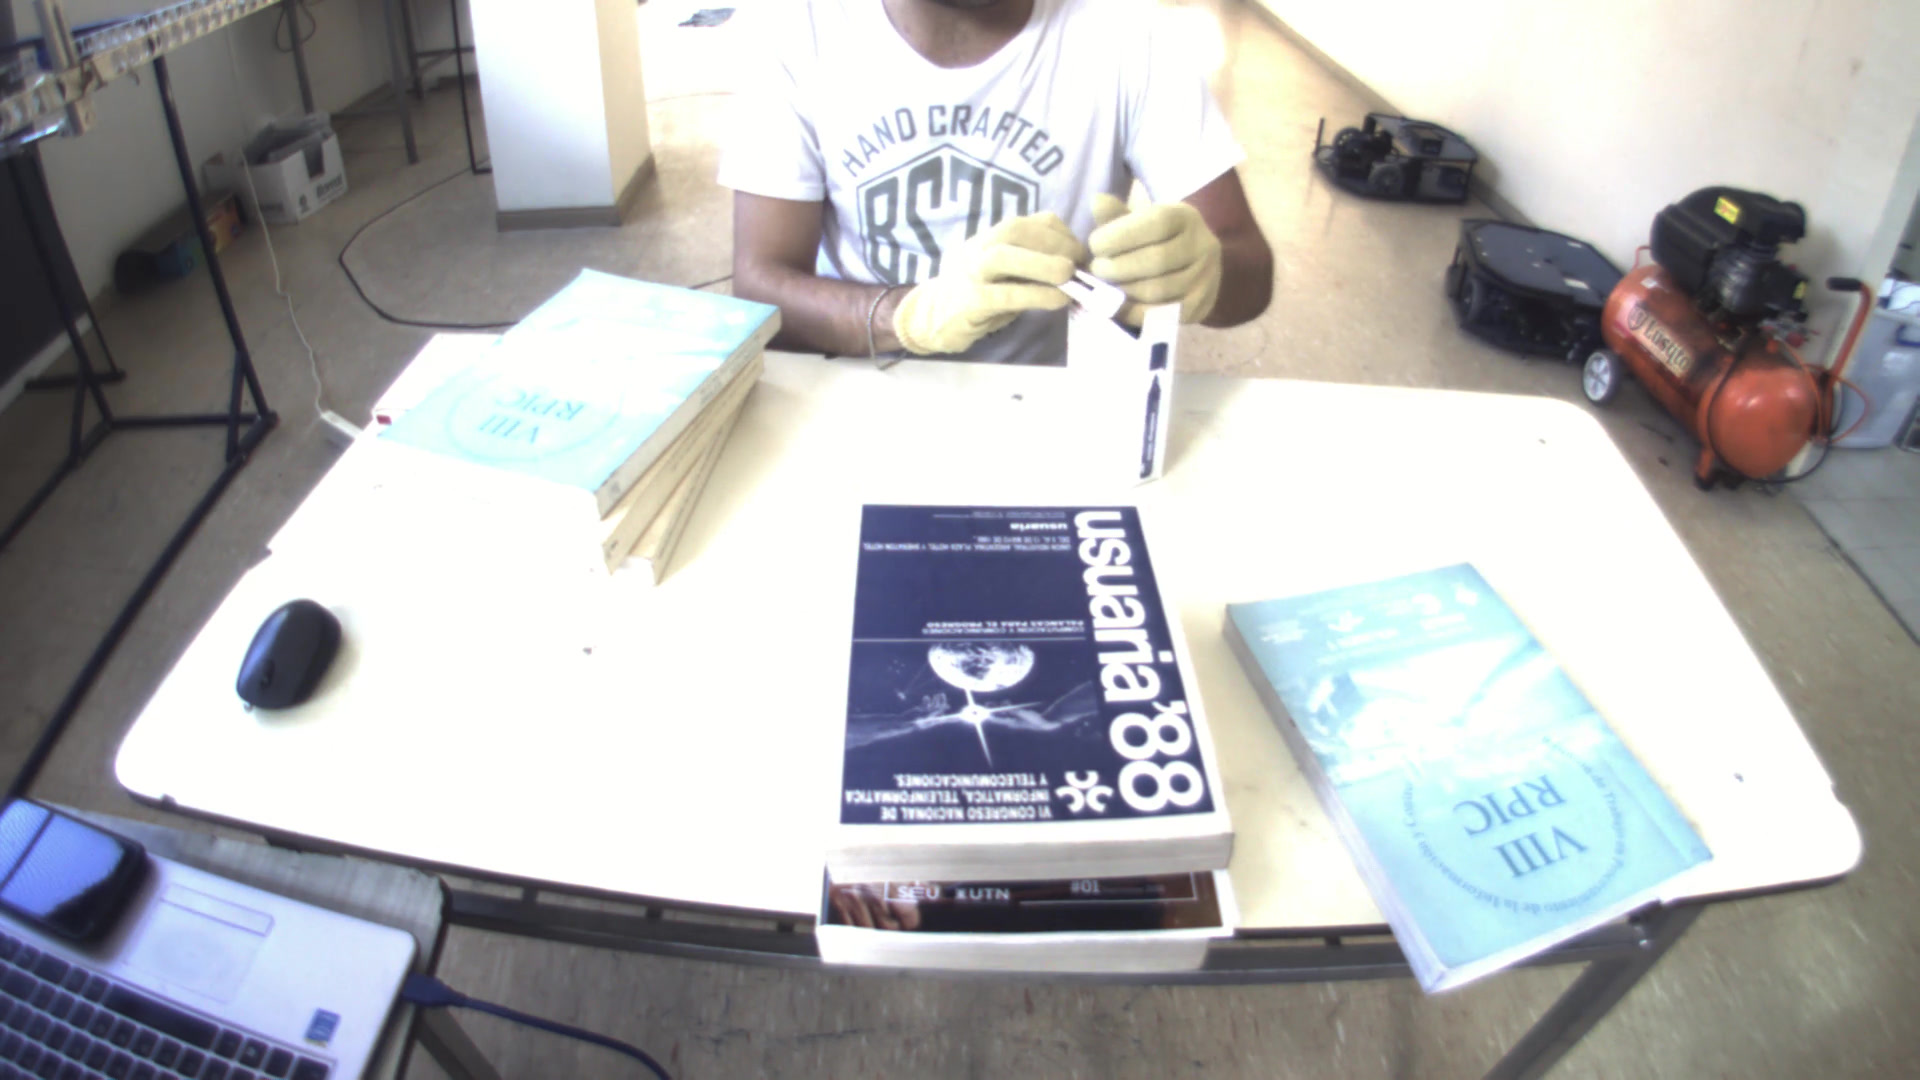hand: (880, 191, 1093, 359), (1085, 178, 1232, 323)
